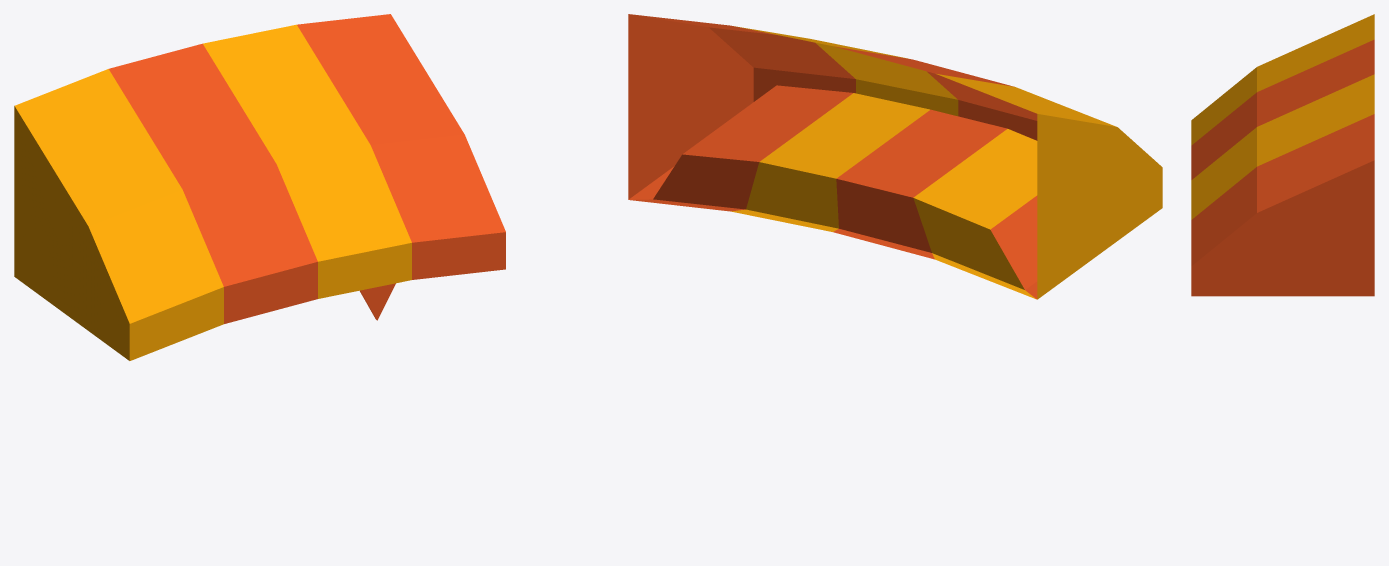
Rendered from PredioGenerico1MarromLOD1.fbx.
3 renders of one model, left to right at view 1: azimuth 30°, elevation 25°; view 2: azimuth 150°, elevation 25°; view 3: azimuth 270°, elevation 25°, orthographic. The views are drawn at different scales.
Visible parts, largest first — view 1: Toldo.002; view 2: Toldo.002; view 3: Toldo.002.
Boxes of the visible parts, left/top/right/bottom form: Toldo.002: left=14, top=14, right=505, bottom=360; Toldo.002: left=628, top=14, right=1162, bottom=299; Toldo.002: left=1191, top=14, right=1374, bottom=296.
Size of what is drawn, in the model's own units: 358 by 355 by 157.
